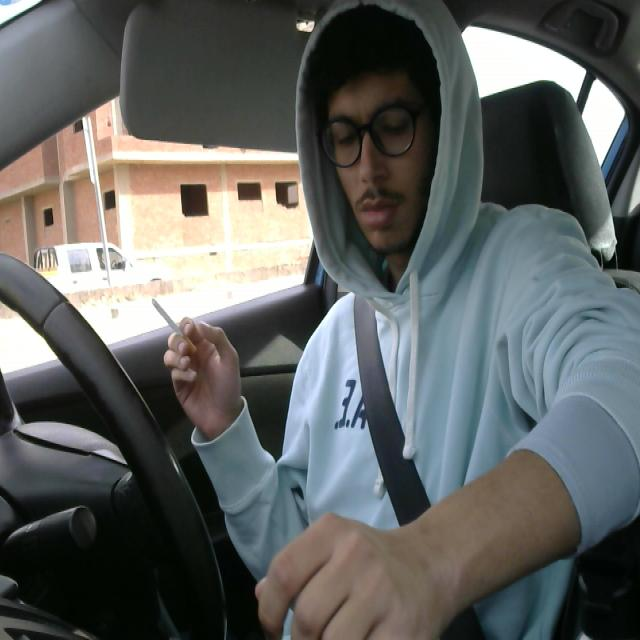smoking: (150, 290, 202, 360)
